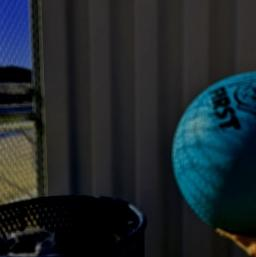algae: (167, 66, 256, 233)
